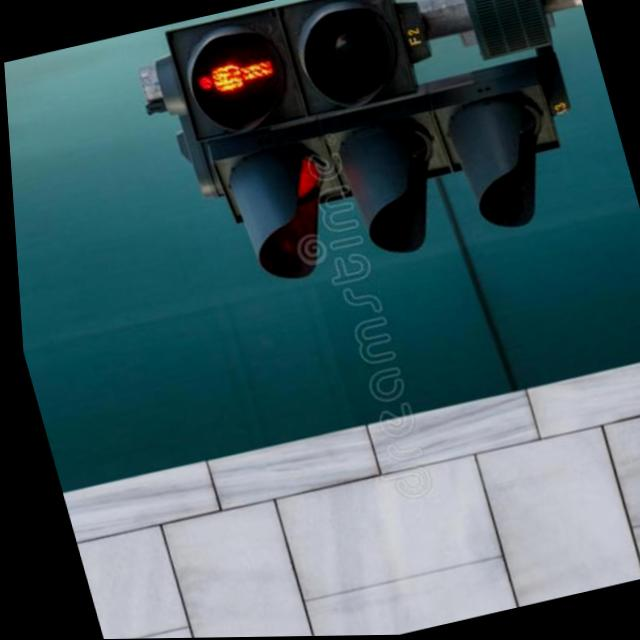red_light: (174, 20, 299, 135)
